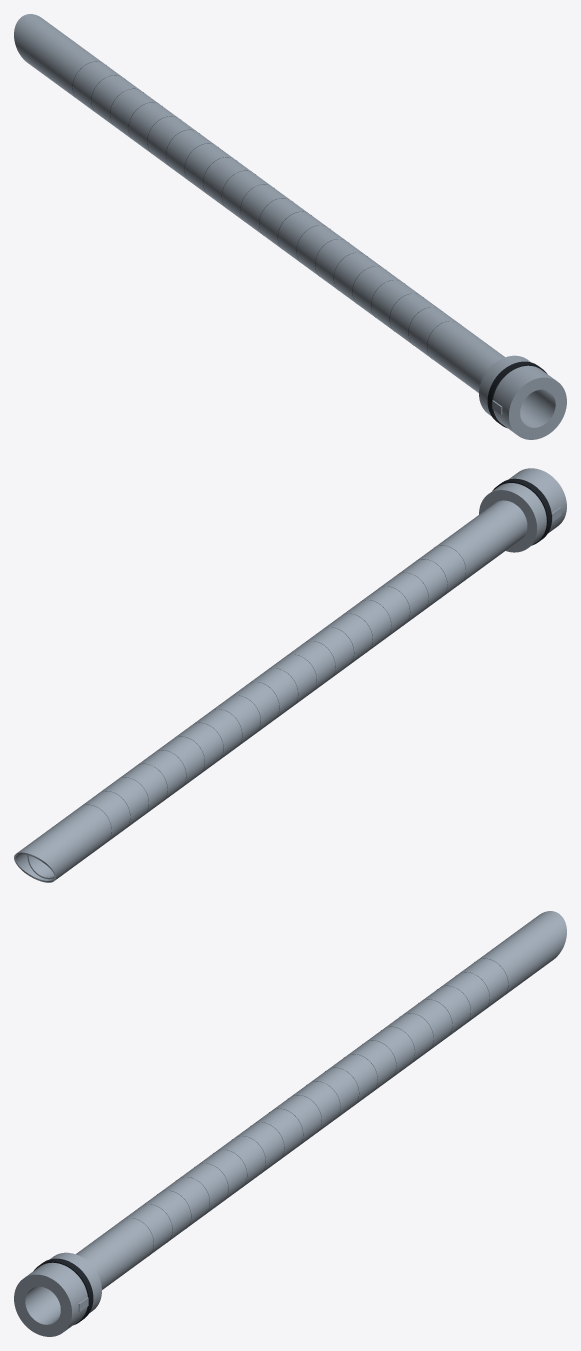
The model's file is bt2201-3-tracheal-tube-od12p00-id11p00mm.glb.
3 views of the same model, one above another, from view 1: azimuth 30°, elevation 25°; view 2: azimuth 150°, elevation 25°; view 3: azimuth 330°, elevation 25° (orthographic).
Visible parts, largest first — view 1: BT2201_3_Hollow_Beveled_Tube, BT2201_3_Quarter_Turn_Connector, BT2201_3_Metric_Depth_Scale, BT2201_3_Black_Size_Ring; view 2: BT2201_3_Hollow_Beveled_Tube, BT2201_3_Quarter_Turn_Connector, BT2201_3_Metric_Depth_Scale, BT2201_3_Black_Size_Ring; view 3: BT2201_3_Hollow_Beveled_Tube, BT2201_3_Quarter_Turn_Connector, BT2201_3_Metric_Depth_Scale, BT2201_3_Black_Size_Ring.
Boxes of the visible parts, bbox=[...] form: BT2201_3_Hollow_Beveled_Tube: bbox=[14, 14, 504, 392]; BT2201_3_Quarter_Turn_Connector: bbox=[479, 355, 566, 439]; BT2201_3_Metric_Depth_Scale: bbox=[72, 61, 457, 358]; BT2201_3_Black_Size_Ring: bbox=[487, 361, 546, 428]; BT2201_3_Hollow_Beveled_Tube: bbox=[14, 500, 527, 882]; BT2201_3_Quarter_Turn_Connector: bbox=[479, 468, 566, 552]; BT2201_3_Metric_Depth_Scale: bbox=[84, 545, 465, 837]; BT2201_3_Black_Size_Ring: bbox=[492, 478, 551, 545]; BT2201_3_Hollow_Beveled_Tube: bbox=[76, 911, 566, 1289]; BT2201_3_Quarter_Turn_Connector: bbox=[14, 1252, 101, 1336]; BT2201_3_Metric_Depth_Scale: bbox=[123, 958, 508, 1255]; BT2201_3_Black_Size_Ring: bbox=[34, 1258, 93, 1325].
Bounding box in the file's own units: 0.0187 × 0.0187 × 0.274.
